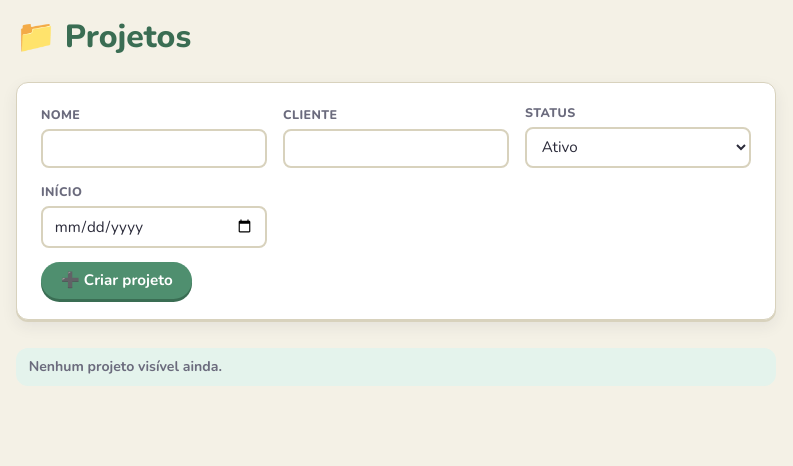
ProjetosPage › como colaborador › também cria um projeto (pedido do usuário: "um funcionário pode... adicionar novos projetos")
Step 1. Type "Portal" into the field labelled "Nome" → (154, 148), box [41,129,267,168]
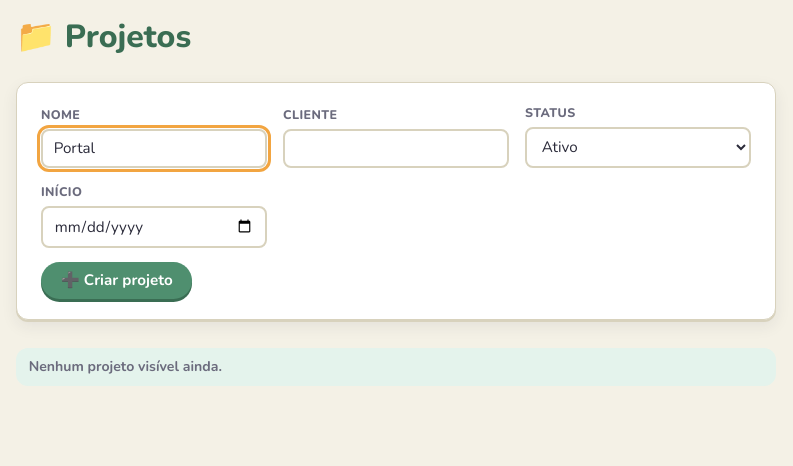
Step 2. Type "Acme" into the field labelled "Cliente" → (396, 148), box [283,129,509,168]
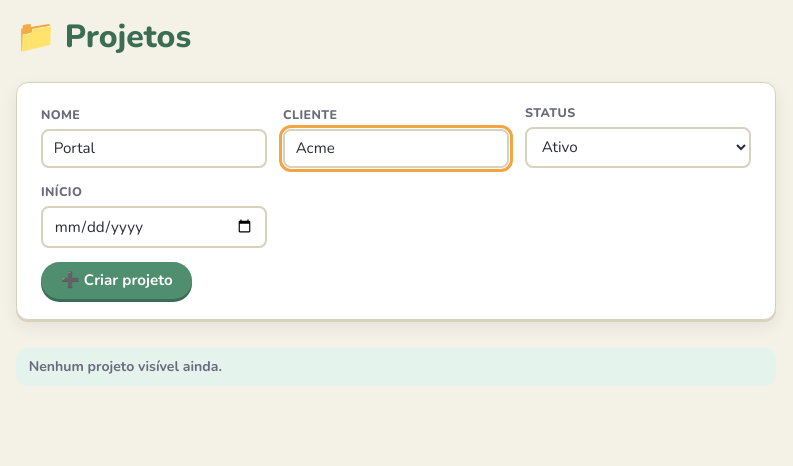
Step 3. Type "2026-01-01" into the date field labelled "Início" → (154, 227), box [41,206,267,248]
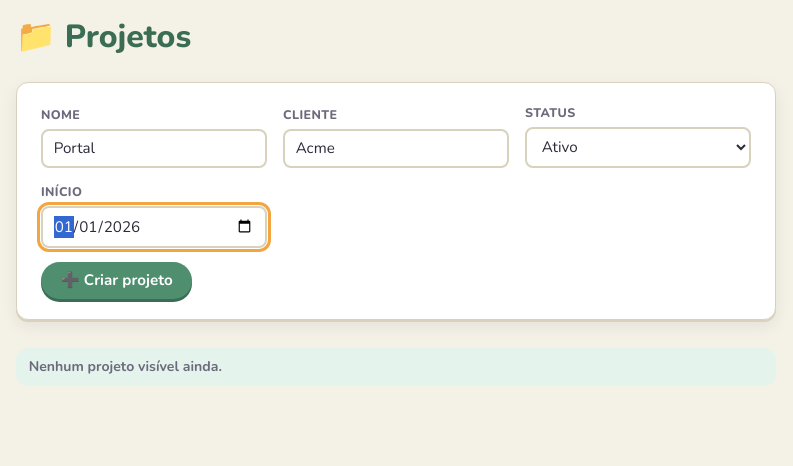
Step 4. Click the button "➕ Criar projeto" → (117, 280), box [41,262,192,299]
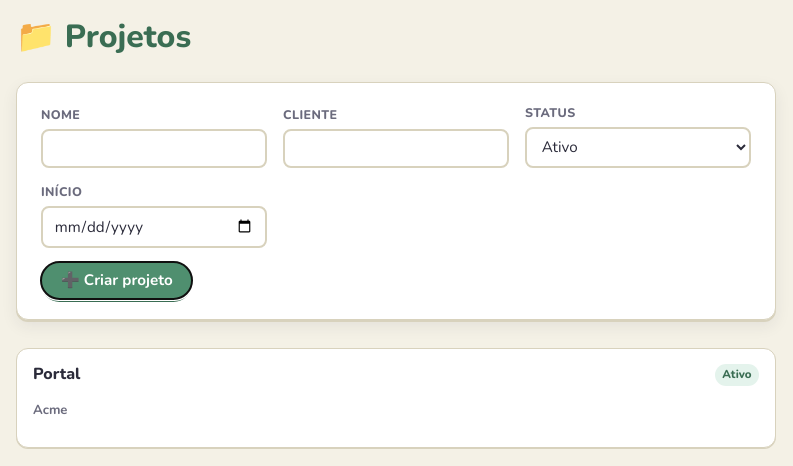
expect the text "Portal" is shown: met, box [33,362,80,387]
